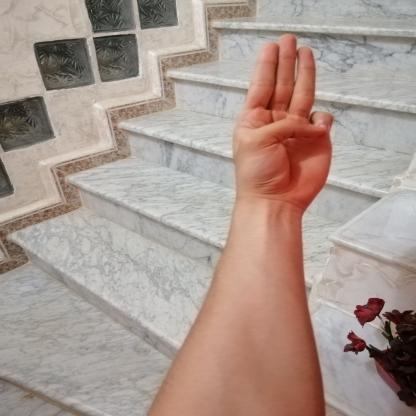THA: (218, 20, 344, 218)
